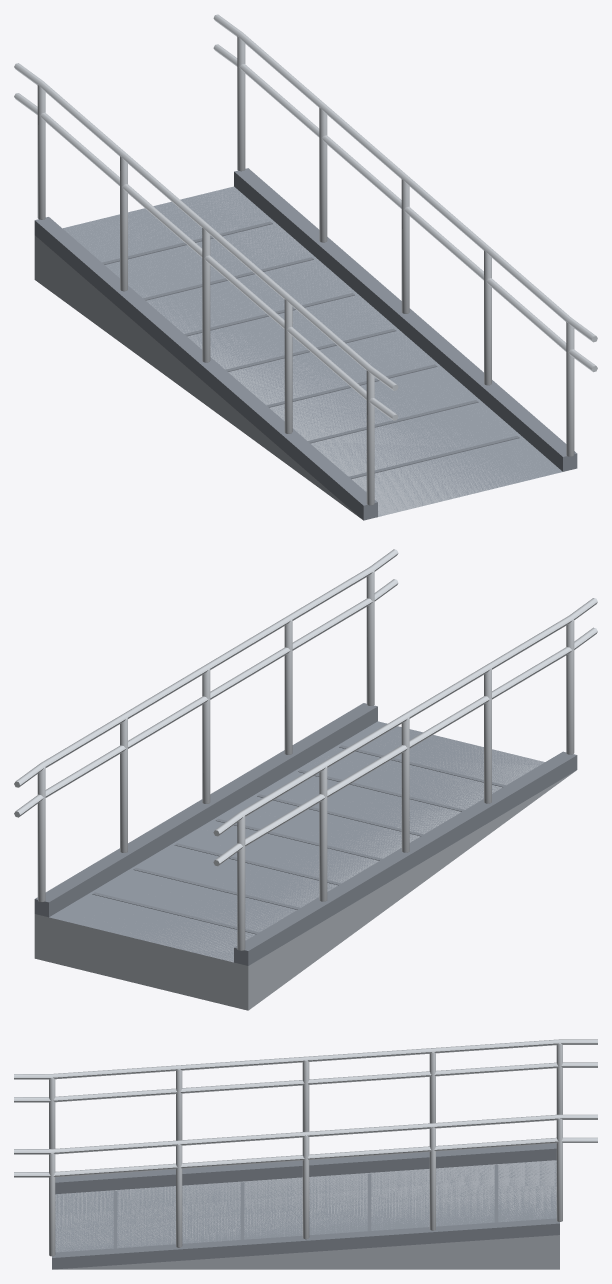
The model's file is rampa_h30.glb.
3 views of the same model, one above another, from view 1: azimuth 30°, elevation 25°; view 2: azimuth 150°, elevation 25°; view 3: azimuth 270°, elevation 25° (orthographic). The views are drawn at different scales.
Visible parts, largest first — view 1: rampa_h30, colisao_malha; view 2: rampa_h30, colisao_malha; view 3: rampa_h30, colisao_malha.
Part boxes in pixels (x1,y1,x2,y2): rampa_h30: (14, 14, 597, 520); colisao_malha: (62, 186, 562, 516); rampa_h30: (14, 549, 597, 1010); colisao_malha: (49, 721, 544, 962); rampa_h30: (14, 1039, 597, 1269); colisao_malha: (55, 1160, 556, 1252).
Bounding box in the file's own units: 1.5 × 1.32 × 4.6.
Materials: 1 (1 with a texture image).
